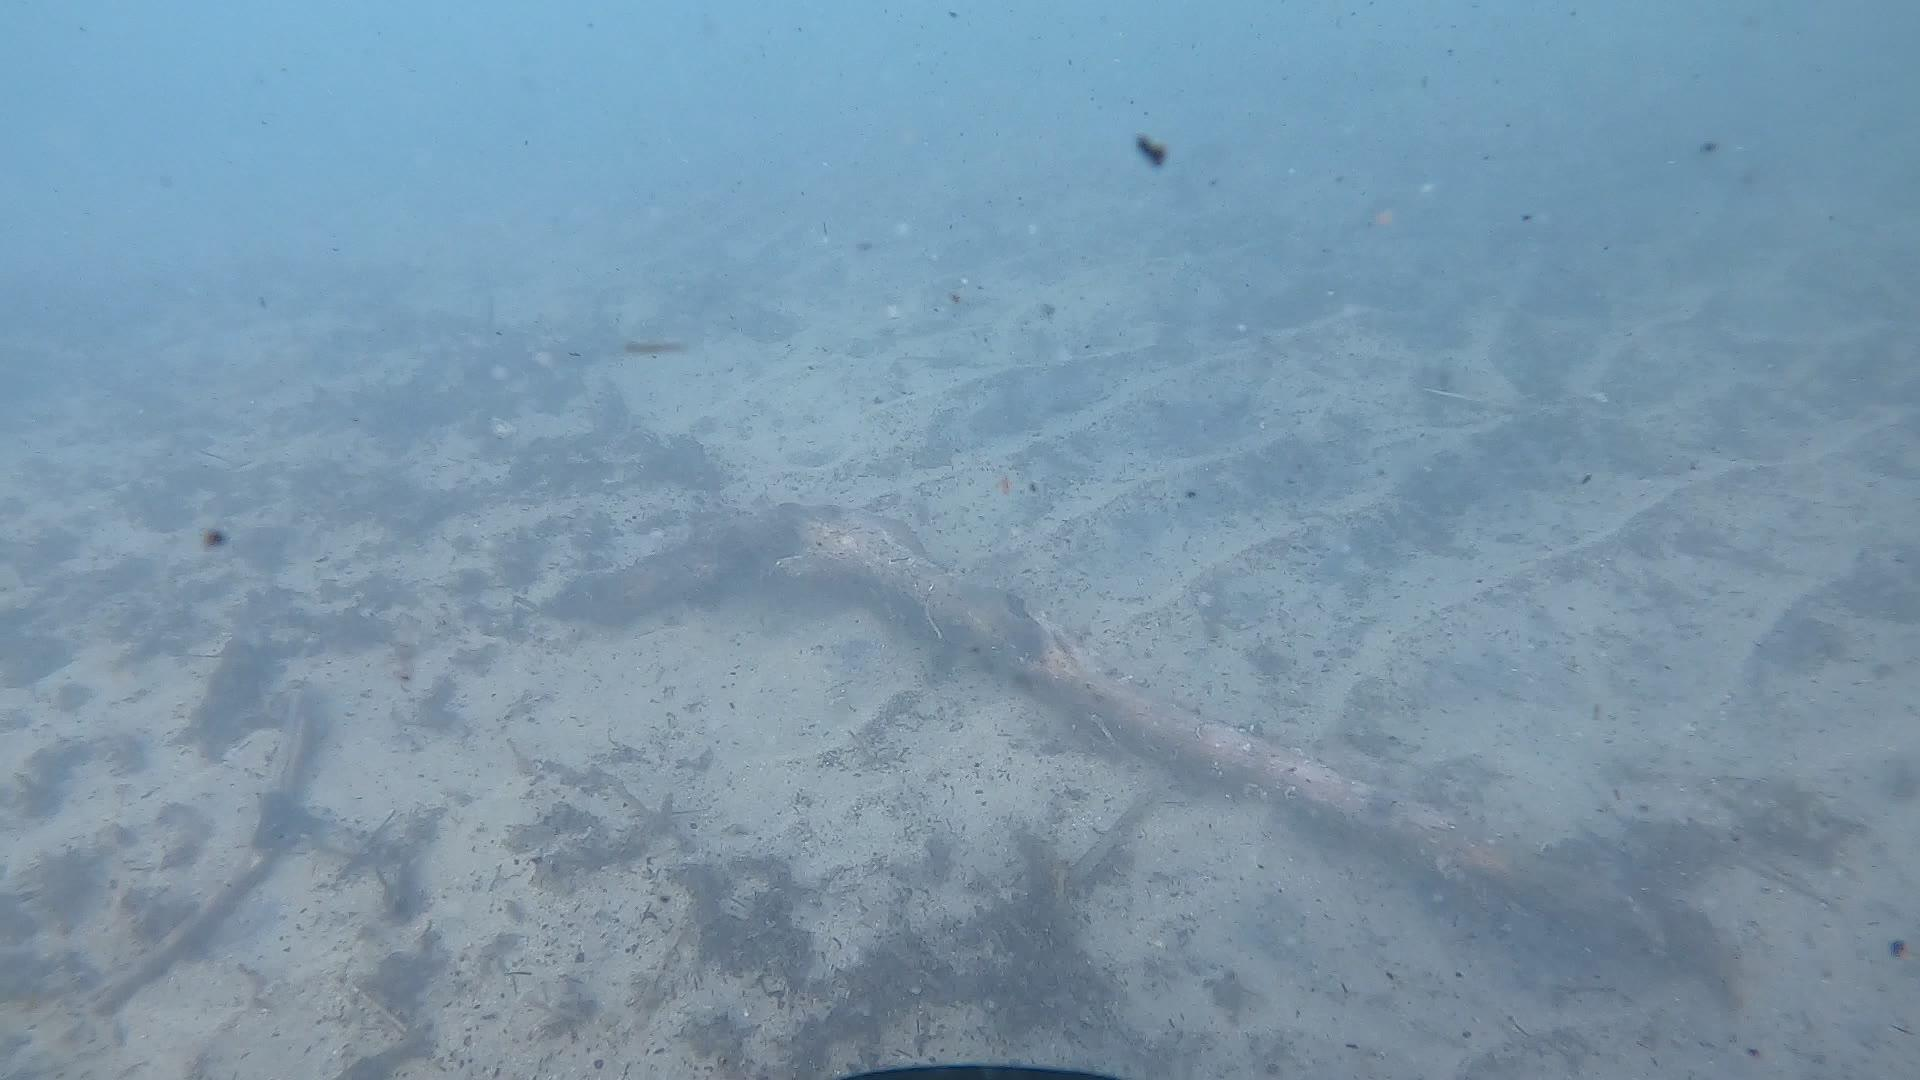wood: (541, 498, 1724, 982)
